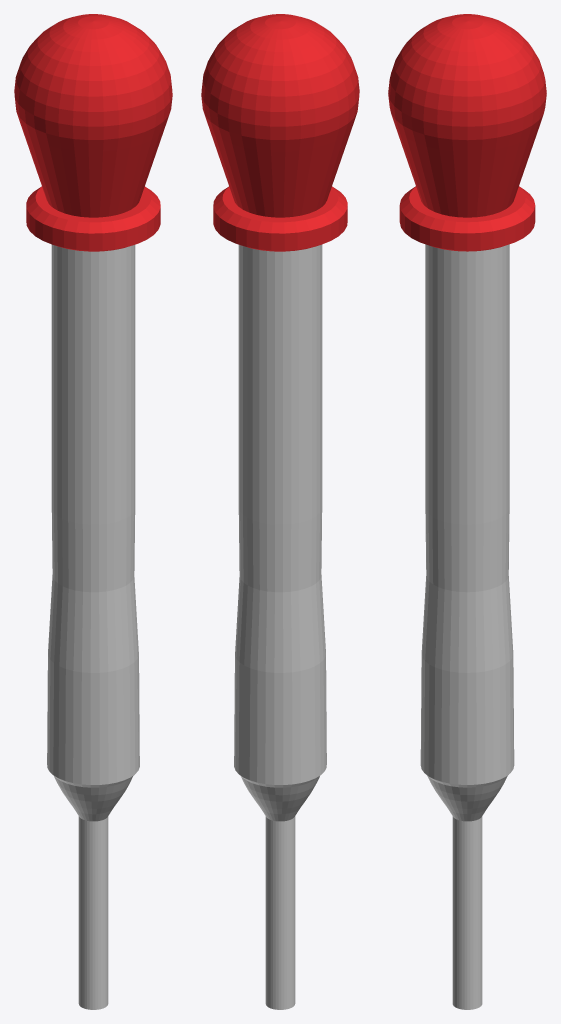
The model's file is Pipet tetes.fbx.
The picture shows the model from 3 angles, left to right: view 1: azimuth 30°, elevation 25°; view 2: azimuth 150°, elevation 25°; view 3: azimuth 270°, elevation 25°; orthographic projection.
Parts seen in each view (by area): view 1: Cylinder, Cylinder.001; view 2: Cylinder, Cylinder.001; view 3: Cylinder, Cylinder.001.
Part boxes in pixels (<box>): Cylinder: <box>47,244,139,1009</box>; Cylinder.001: <box>14,14,172,251</box>; Cylinder: <box>234,244,326,1009</box>; Cylinder.001: <box>201,14,359,251</box>; Cylinder: <box>420,244,514,1009</box>; Cylinder.001: <box>388,14,546,251</box>.
Bounding box in the file's own units: 237 × 1616 × 237.
